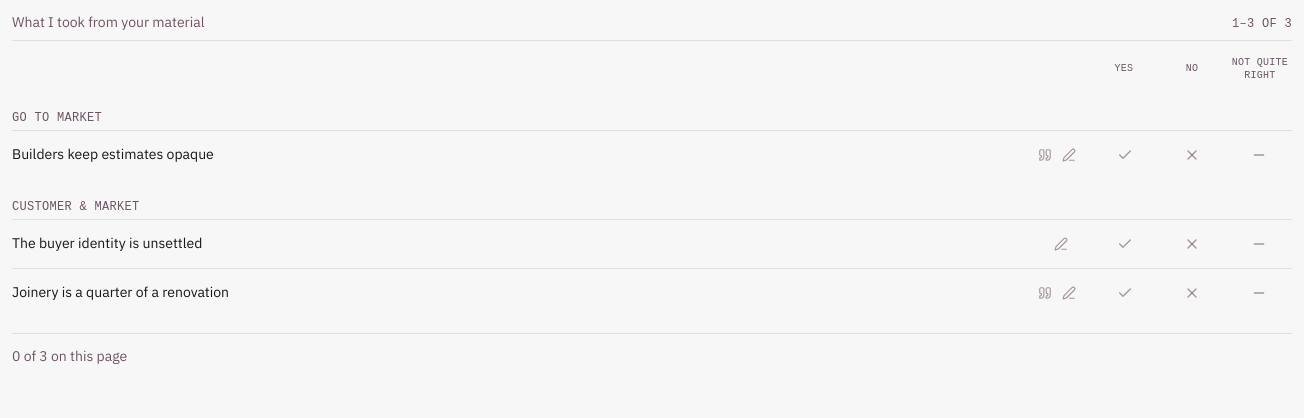
Test: ReviewPass › list layout › surfaces a failed ruling on the row and leaves it unruled
The image size is (1304, 418).
What coordinates should you click on to do the following:
click the radio button named "Yes"
I would click on:
 (1125, 155)
Its box is [1117,147,1133,163].
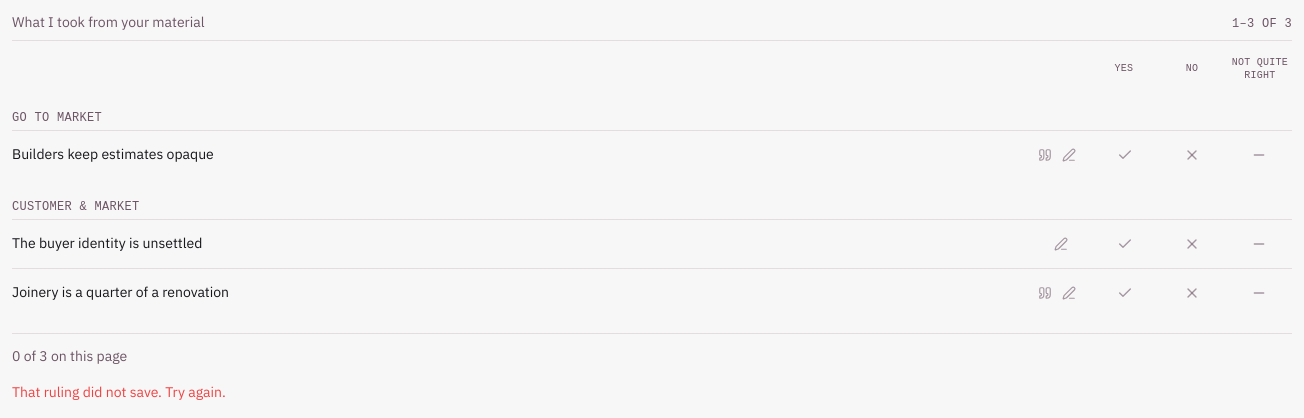
Expected: the message "That ruling did not save. Try again." is shown, [12,383,226,401]
